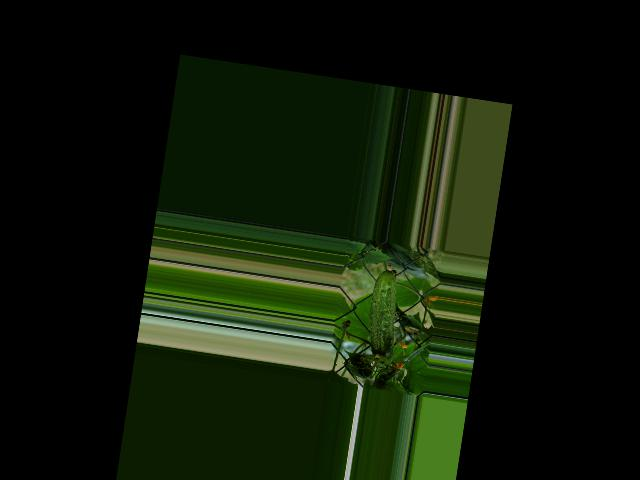cucumber: (362, 263, 404, 364)
